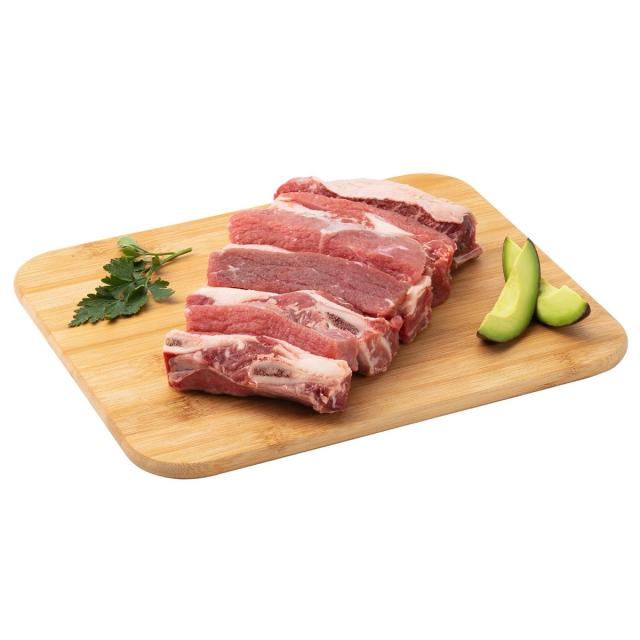aguacate: (481, 232, 601, 358)
carne de cerdo: (167, 158, 478, 425)
